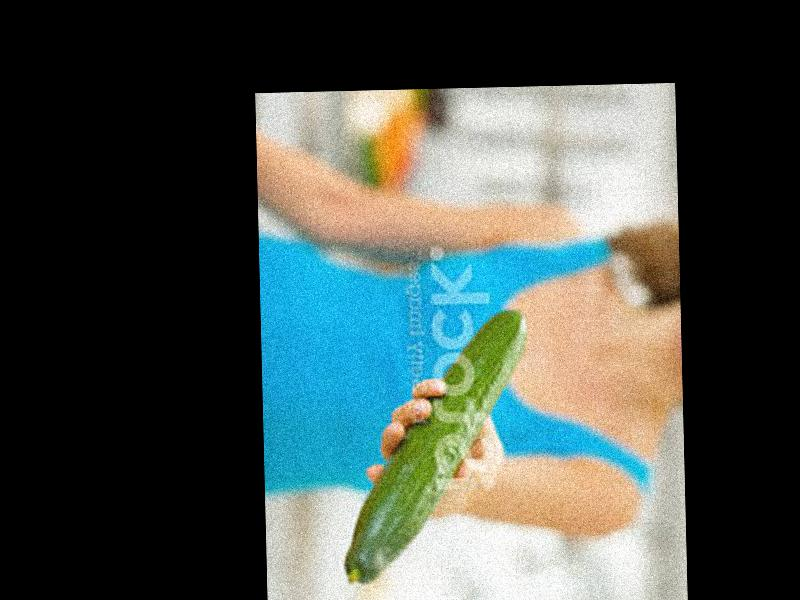Cucumber: (337, 308, 532, 583)
